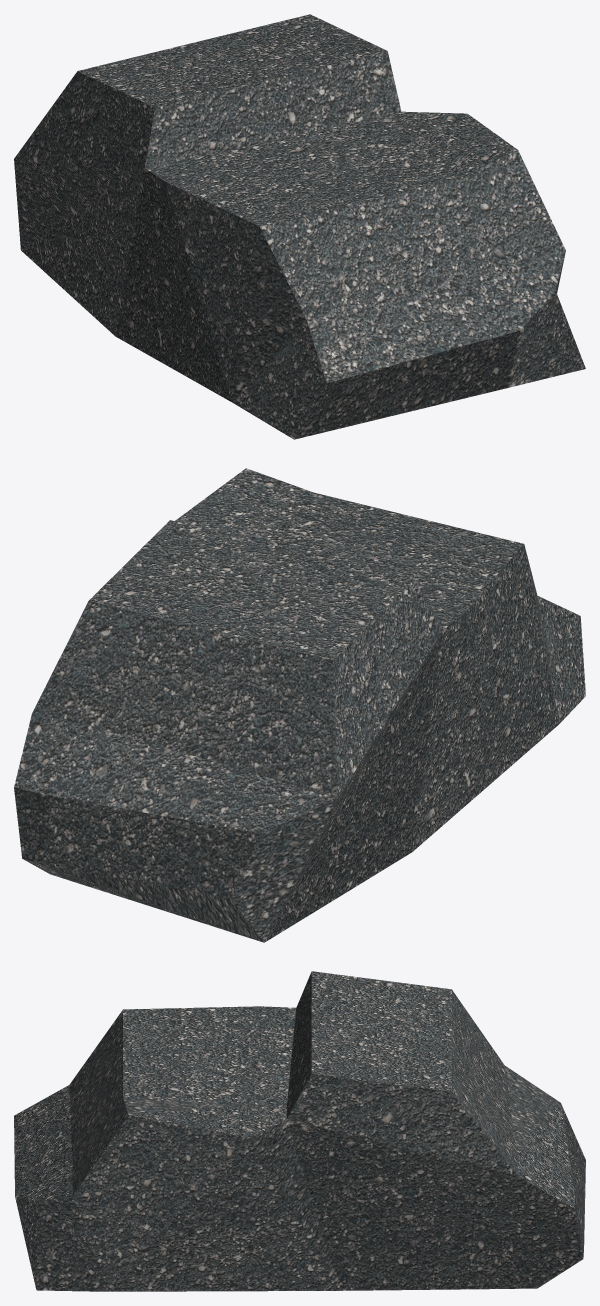
Rendered from rock.glb.
3 renders of one model, top to bottom at view 1: azimuth 30°, elevation 25°; view 2: azimuth 150°, elevation 25°; view 3: azimuth 270°, elevation 25°, orthographic. The views are drawn at different scales.
Parts seen in each view (by area): view 1: Plane; view 2: Plane; view 3: Plane.
Part boxes in pixels (x1,y1,x2,y2): Plane: (14, 14, 585, 439); Plane: (14, 468, 585, 942); Plane: (14, 971, 585, 1291).
Bounding box in the file's own units: 10.68 × 8.01 × 18.74.
Materials: 1 (1 with a texture image).
